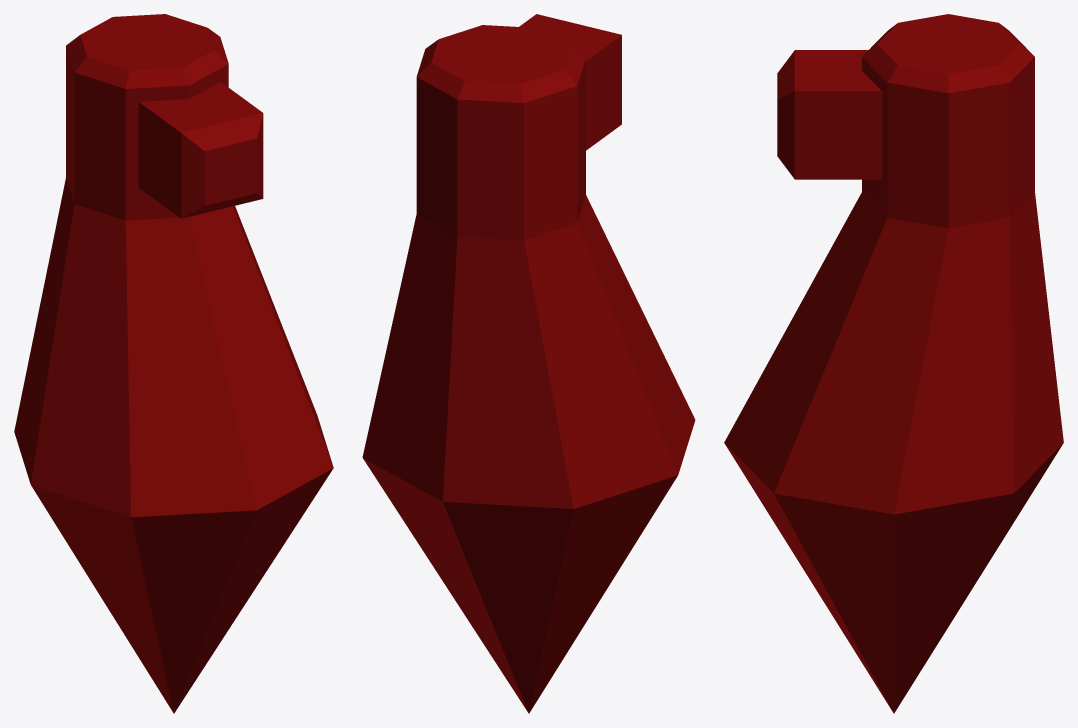
File: red-knight.glb
3 renders of one model, left to right at view 1: azimuth 30°, elevation 25°; view 2: azimuth 150°, elevation 25°; view 3: azimuth 270°, elevation 25°, orthographic. The views are drawn at different scales.
Visible parts, largest first — view 1: Knight; view 2: Knight; view 3: Knight.
Boxes of the visible parts, x1,y1,x2,y2 form: Knight: (14,14,333,713); Knight: (362,14,695,713); Knight: (724,14,1063,713).
Bounding box in the file's own units: 0.1419 × 0.3087 × 0.1419.
